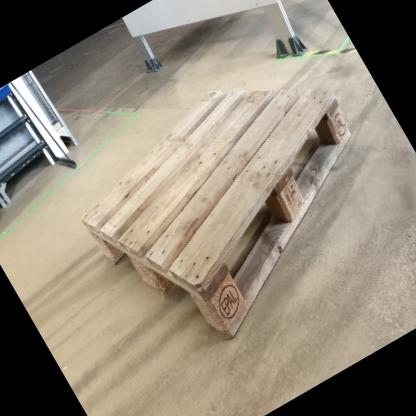BoxFace: (70, 79, 358, 351)
